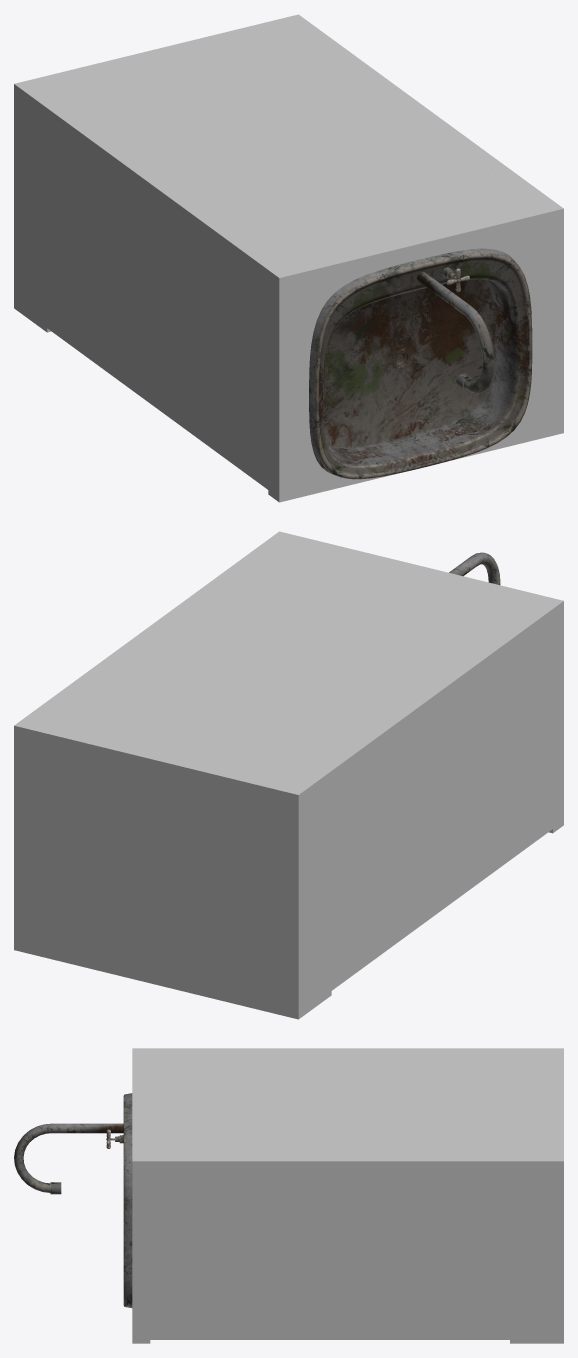
The model's file is SM_Prop_Wood_Washbasin.fbx.
The picture shows the model from 3 angles, top to bottom: view 1: azimuth 30°, elevation 25°; view 2: azimuth 150°, elevation 25°; view 3: azimuth 270°, elevation 25°; orthographic projection. The views are drawn at different scales.
Visible parts, largest first — view 1: SM_Prop_Wood_Washbasin, SM_Sink_Old_SP.002, SM_Prop_Wood_Sink_Door_01.005; view 2: SM_Prop_Wood_Washbasin, SM_Prop_Wood_Sink_Door_01.005, SM_Sink_Old_SP.002; view 3: SM_Prop_Wood_Washbasin, SM_Sink_Old_SP.002, SM_Prop_Wood_Sink_Door_01.004, SM_Prop_Wood_Washbasin_Box.002.
Part boxes in pixels (box(x1,y1,x2,y2)): SM_Prop_Wood_Washbasin: box(14, 14, 563, 502); SM_Sink_Old_SP.002: box(309, 248, 532, 479); SM_Prop_Wood_Sink_Door_01.005: box(47, 317, 223, 457); SM_Prop_Wood_Washbasin: box(14, 531, 563, 1019); SM_Prop_Wood_Sink_Door_01.005: box(331, 850, 508, 990); SM_Sink_Old_SP.002: box(449, 552, 500, 584); SM_Prop_Wood_Washbasin: box(132, 1048, 563, 1343); SM_Sink_Old_SP.002: box(14, 1093, 132, 1307); SM_Prop_Wood_Sink_Door_01.004: box(222, 1330, 509, 1339); SM_Prop_Wood_Washbasin_Box.002: box(150, 1330, 222, 1339).
Bounding box in the file's own units: 0.7431 × 0.607 × 1.53.
